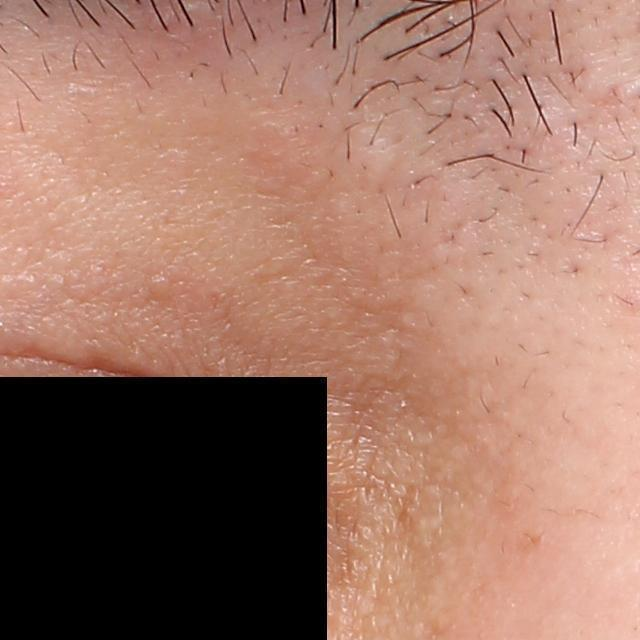comedo: (146, 270, 172, 299)
hypertrophic_scar: (339, 125, 401, 190)
